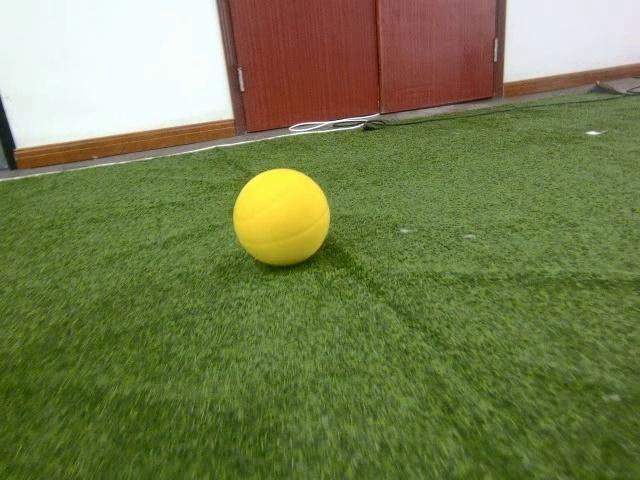yellow_ball: (233, 166, 332, 270)
